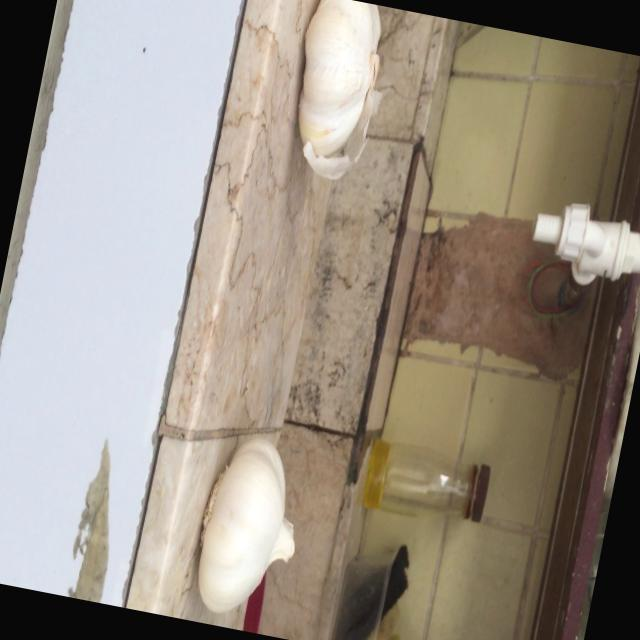garlic: (180, 420, 318, 636), (274, 0, 405, 192)
